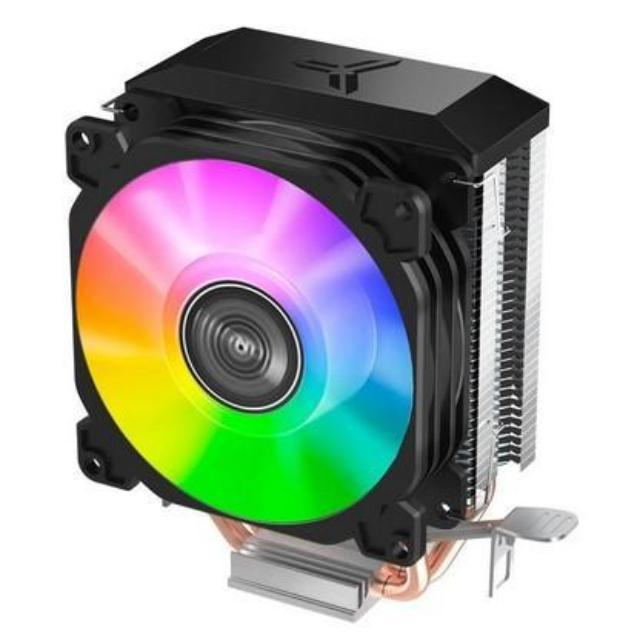CPU_Fan: (62, 24, 548, 608)
